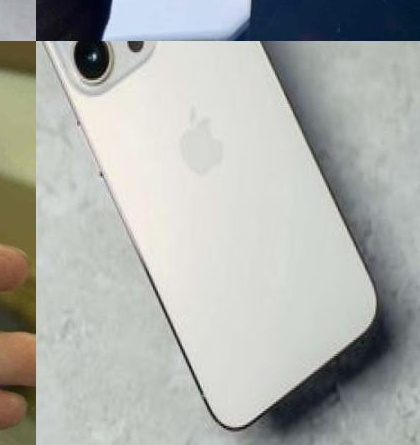scratch: (339, 8, 415, 41)
